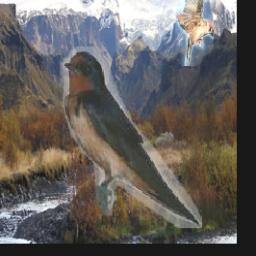Sparrow: (175, 0, 214, 67)
Swallow: (60, 46, 202, 228)
